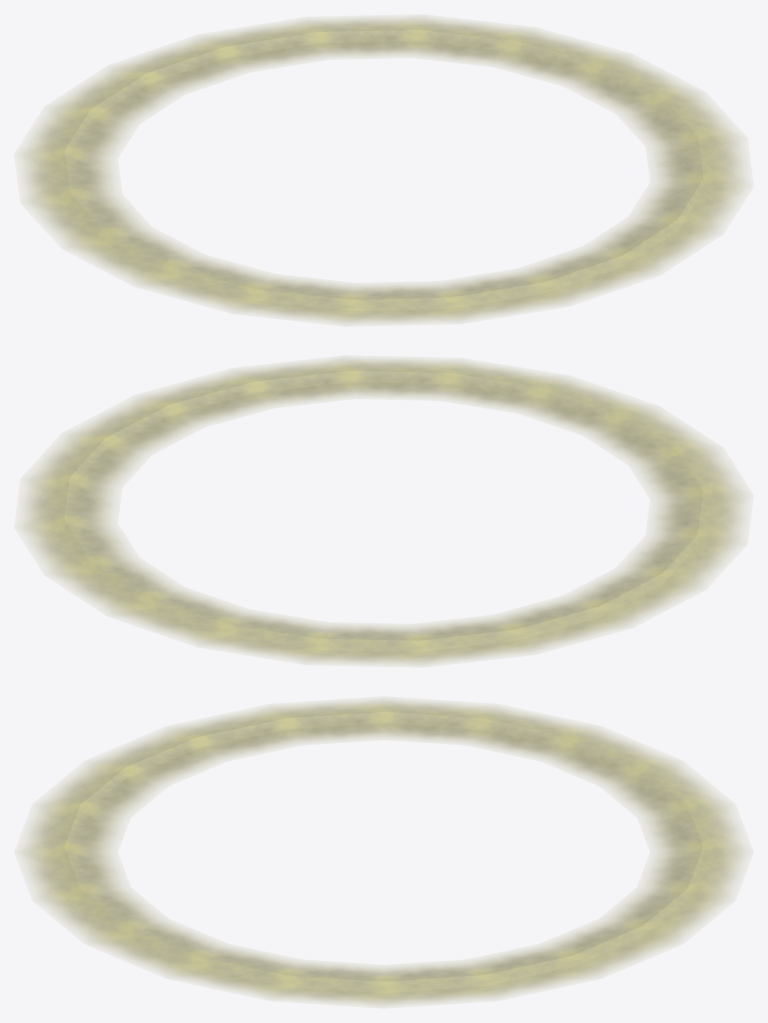
Rendered from Mist01_Art.glb.
3 renders of one model, top to bottom at view 1: azimuth 30°, elevation 25°; view 2: azimuth 150°, elevation 25°; view 3: azimuth 270°, elevation 25°, orthographic.
Visible parts, largest first — view 1: Mist01_Art; view 2: Mist01_Art; view 3: Mist01_Art.
Part boxes in pixels (x1,y1,x2,y2): Mist01_Art: (17, 15, 750, 325); Mist01_Art: (17, 356, 750, 666); Mist01_Art: (17, 697, 750, 1007).
Size of the model in its own units: 2.4 by 0.0403 by 2.4.
Materials: 1 (1 with a texture image).
